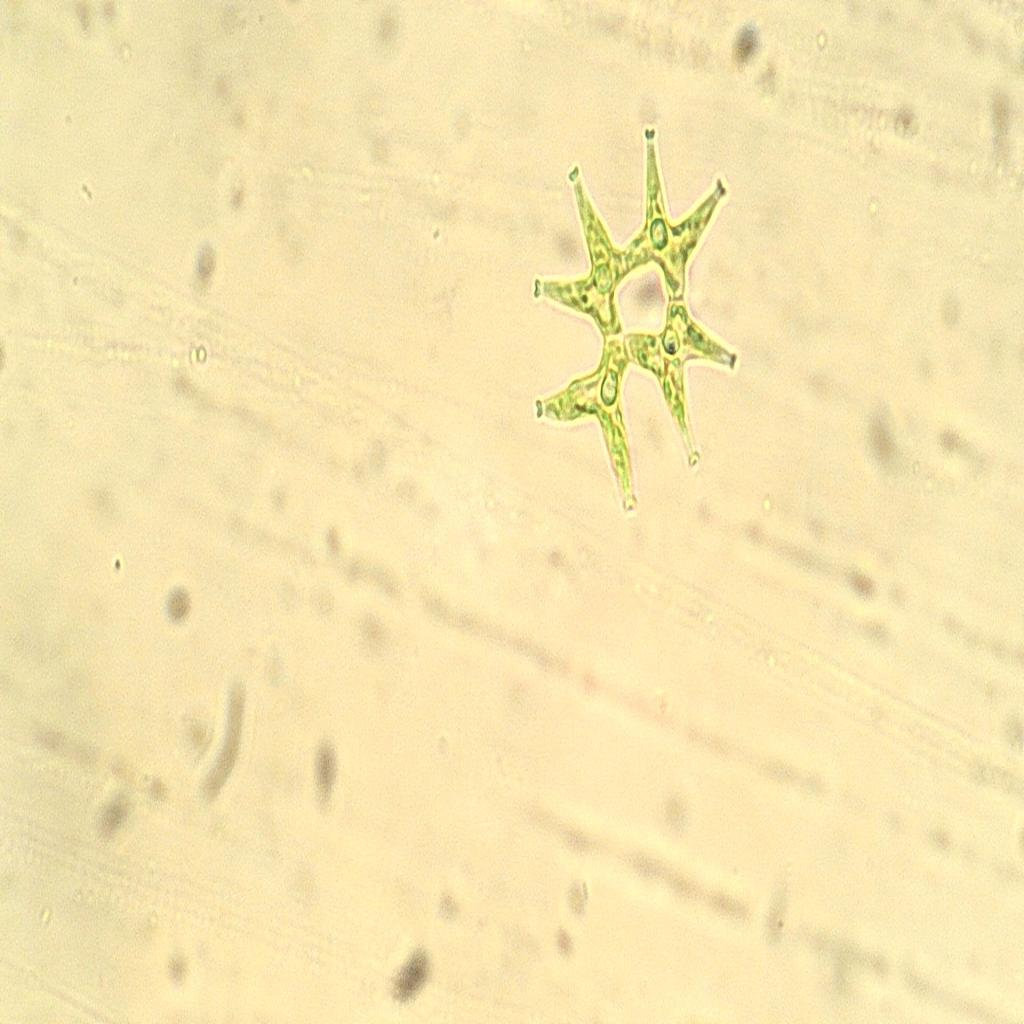Pediastrum_75FI: (521, 108, 747, 528)
